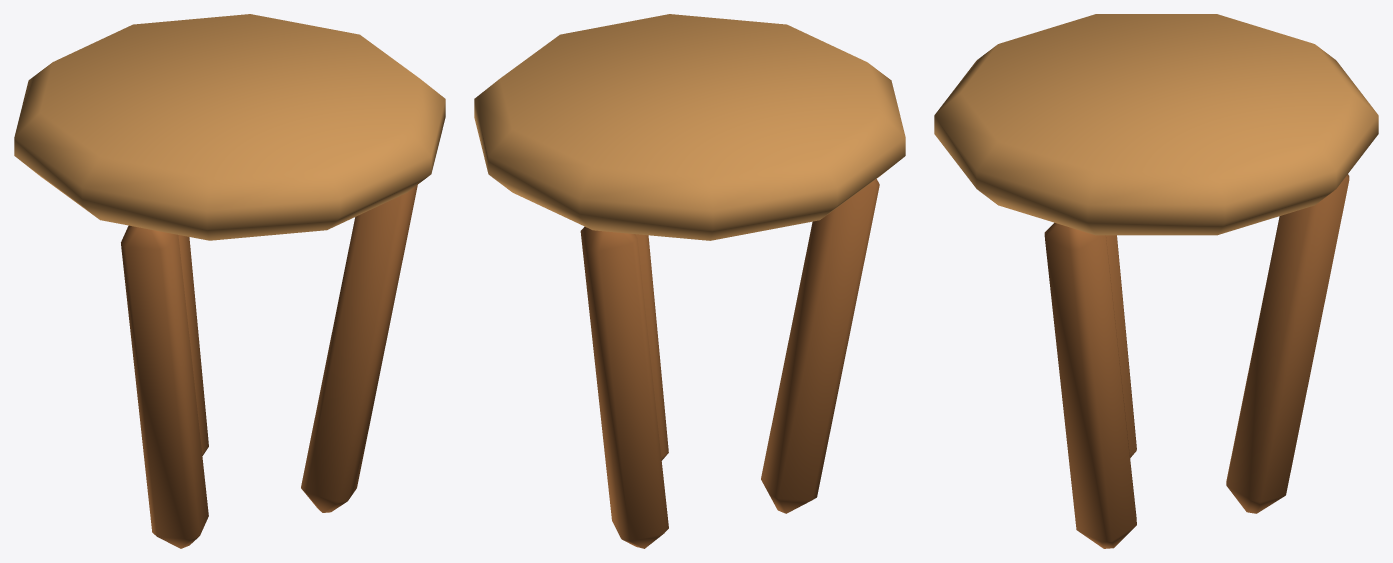
File: P_MedStool.fbx
3 renders of one model, left to right at view 1: azimuth 30°, elevation 25°; view 2: azimuth 150°, elevation 25°; view 3: azimuth 270°, elevation 25°, orthographic.
Visible parts, largest first — view 1: M_Stool; view 2: M_Stool; view 3: M_Stool.
Part boxes in pixels (<box>): M_Stool: <box>14,14,445,548</box>; M_Stool: <box>474,14,905,548</box>; M_Stool: <box>934,14,1378,548</box>.
Bounding box in the file's own units: 0.4185 × 0.458 × 0.44.
1 material, 1 textured.
